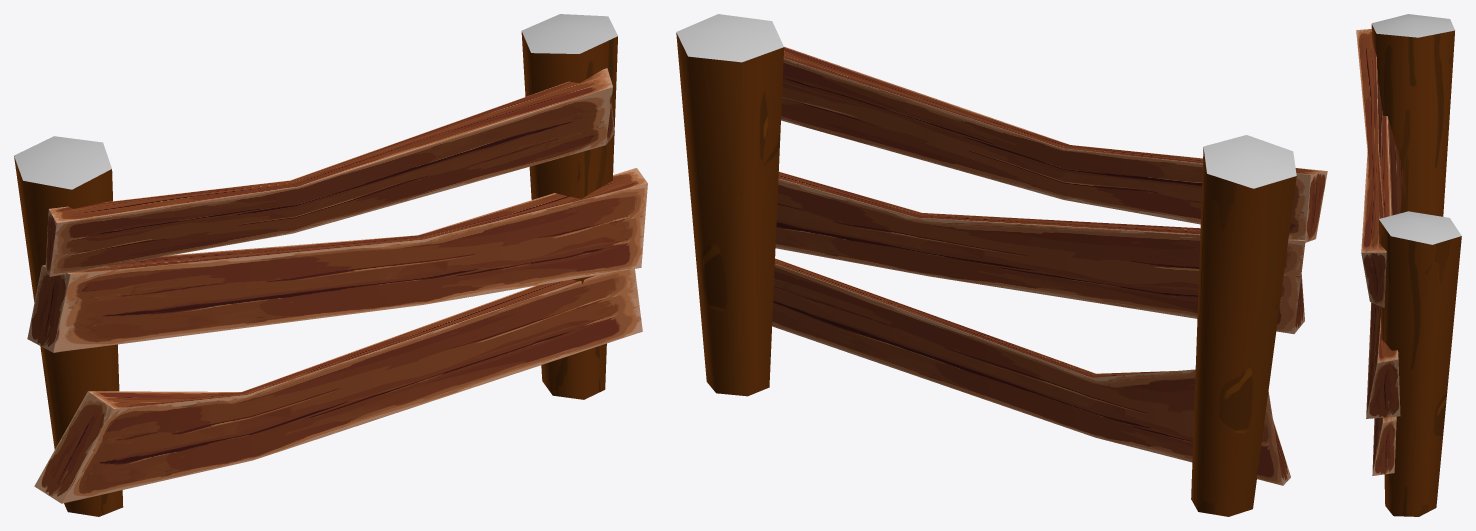
File: SM_PROP_fence_v02_02.fbx
The picture shows the model from 3 angles, left to right: view 1: azimuth 30°, elevation 25°; view 2: azimuth 150°, elevation 25°; view 3: azimuth 270°, elevation 25°; orthographic projection. The views are drawn at different scales.
Parts seen in each view (by area): view 1: SM_PROP_fence_v02_02; view 2: SM_PROP_fence_v02_02; view 3: SM_PROP_fence_v02_02.
Part boxes in pixels (<box>): SM_PROP_fence_v02_02: <box>14,14,647,516</box>; SM_PROP_fence_v02_02: <box>676,14,1327,516</box>; SM_PROP_fence_v02_02: <box>1356,14,1461,516</box>.
Bounding box in the file's own units: 209 × 117 × 38.9.
